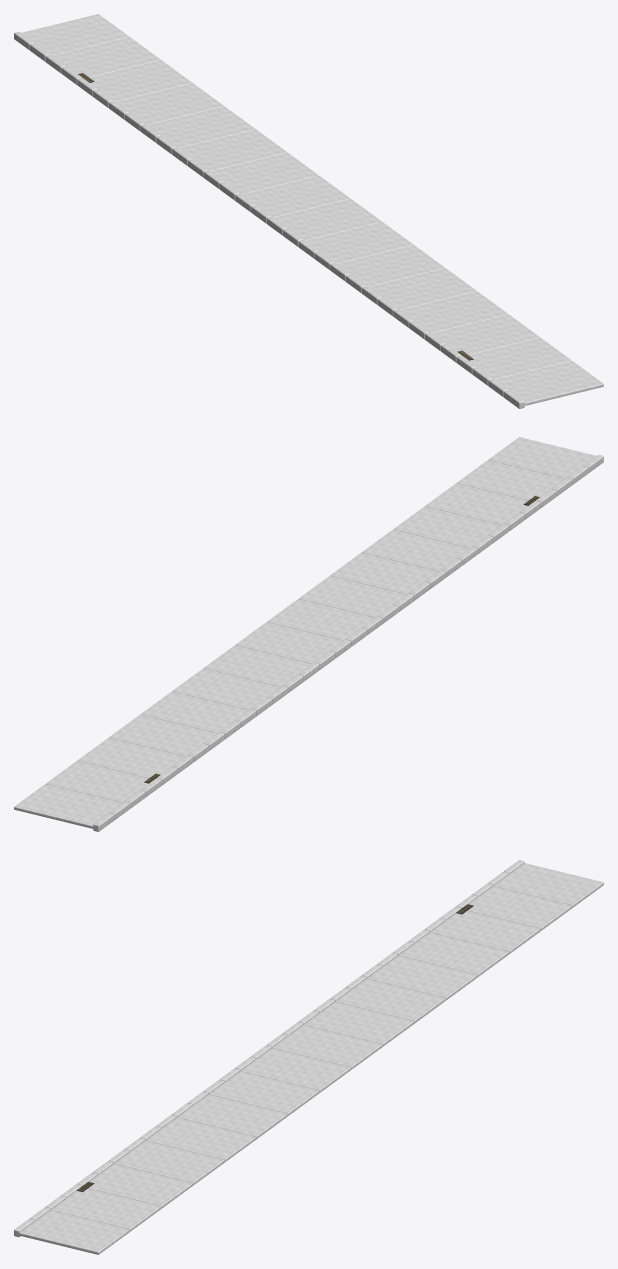
Rendered from sidewalk.glb.
3 views of the same model, one above another, from view 1: azimuth 30°, elevation 25°; view 2: azimuth 150°, elevation 25°; view 3: azimuth 330°, elevation 25° (orthographic).
Visible parts, largest first — view 1: sidewalk_body; view 2: sidewalk_body; view 3: sidewalk_body.
Part boxes in pixels (bbox=[...]): sidewalk_body: bbox=[14, 14, 603, 408]; sidewalk_body: bbox=[14, 437, 603, 831]; sidewalk_body: bbox=[14, 860, 603, 1254].
Bounding box in the file's own units: 3.11 × 0.24 × 31.99.
4 materials, 2 textured.
